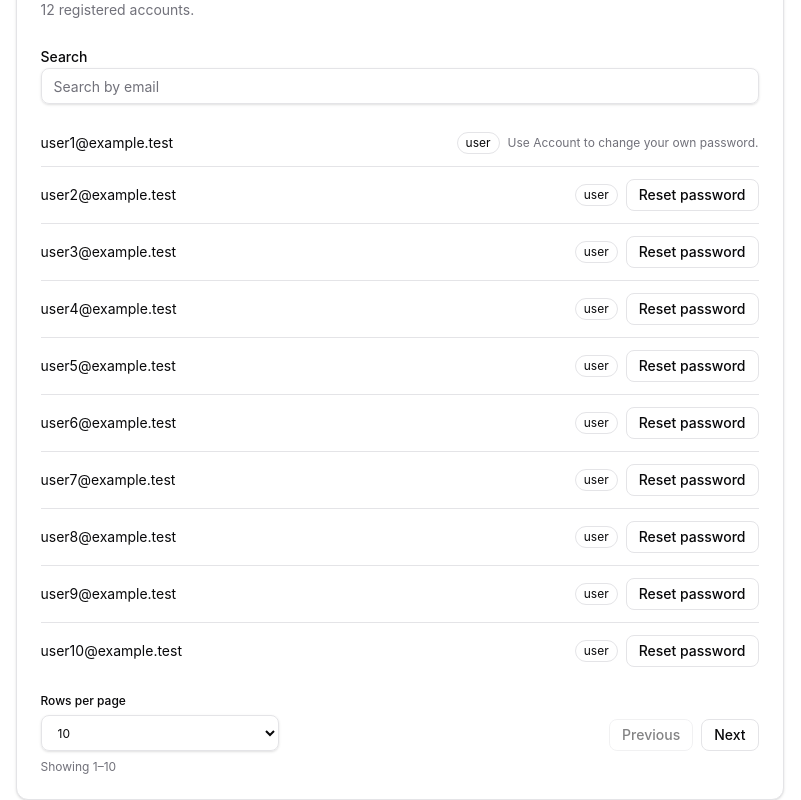
AdminPage › paginates the users list with a correct range on later pages
(page scrolled)
Check: the text "user1@example.test" is shown, box [40,133,173,153]
Check: the text "user11@example.test" is not shown
Click the button "Next" at (730, 735), box [701,719,758,751]
(page scrolled)
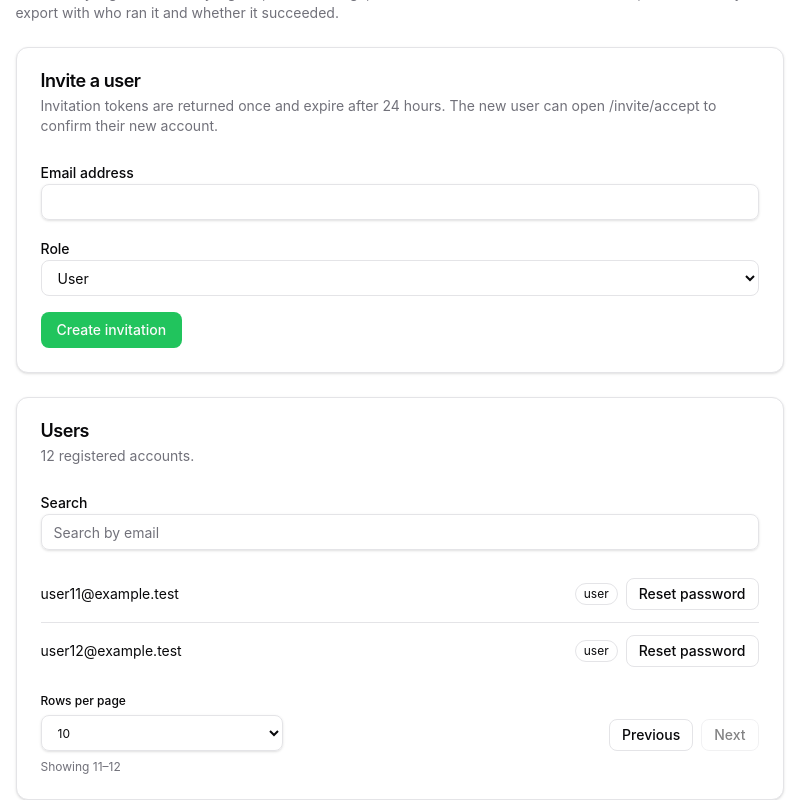
Check: the text "user11@example.test" is shown, box [40,584,179,604]
Check: the text "user12@example.test" is shown, box [40,641,182,661]
Check: the text "user1@example.test" is gone
